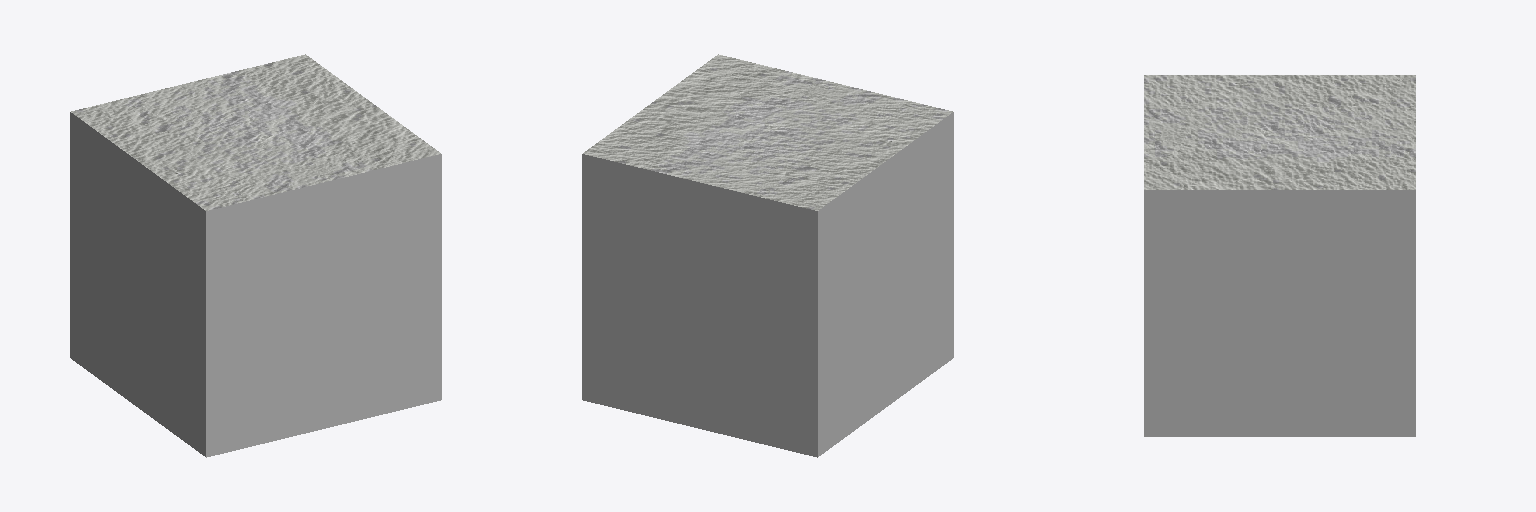
3 renders of one model, left to right at view 1: azimuth 30°, elevation 25°; view 2: azimuth 150°, elevation 25°; view 3: azimuth 270°, elevation 25°, orthographic.
Visible parts, largest first — view 1: Plane.004, Plane.001, Plane; view 2: Plane.003, Plane.001, Plane; view 3: Plane.002, Plane.
Part boxes in pixels (x1,y1,x2,y2): Plane.004: (206,154,441,457); Plane.001: (70,112,205,456); Plane: (71,54,440,210); Plane.003: (582,154,817,457); Plane.001: (818,112,953,456); Plane: (583,54,952,210); Plane.002: (1144,190,1415,436); Plane: (1144,75,1415,189).
Size of the model in its own units: 40 by 40 by 40.
6 materials, 2 textured.